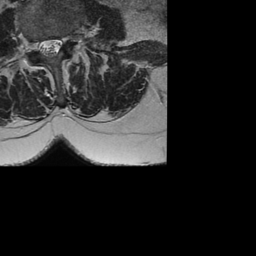CCS_normal: (46, 33, 54, 64)
LFS_stenosis: (62, 25, 71, 49)
LLS_normal: (54, 32, 62, 60)
RFS_normal: (29, 35, 38, 56)
RLS_normal: (38, 35, 46, 58)
